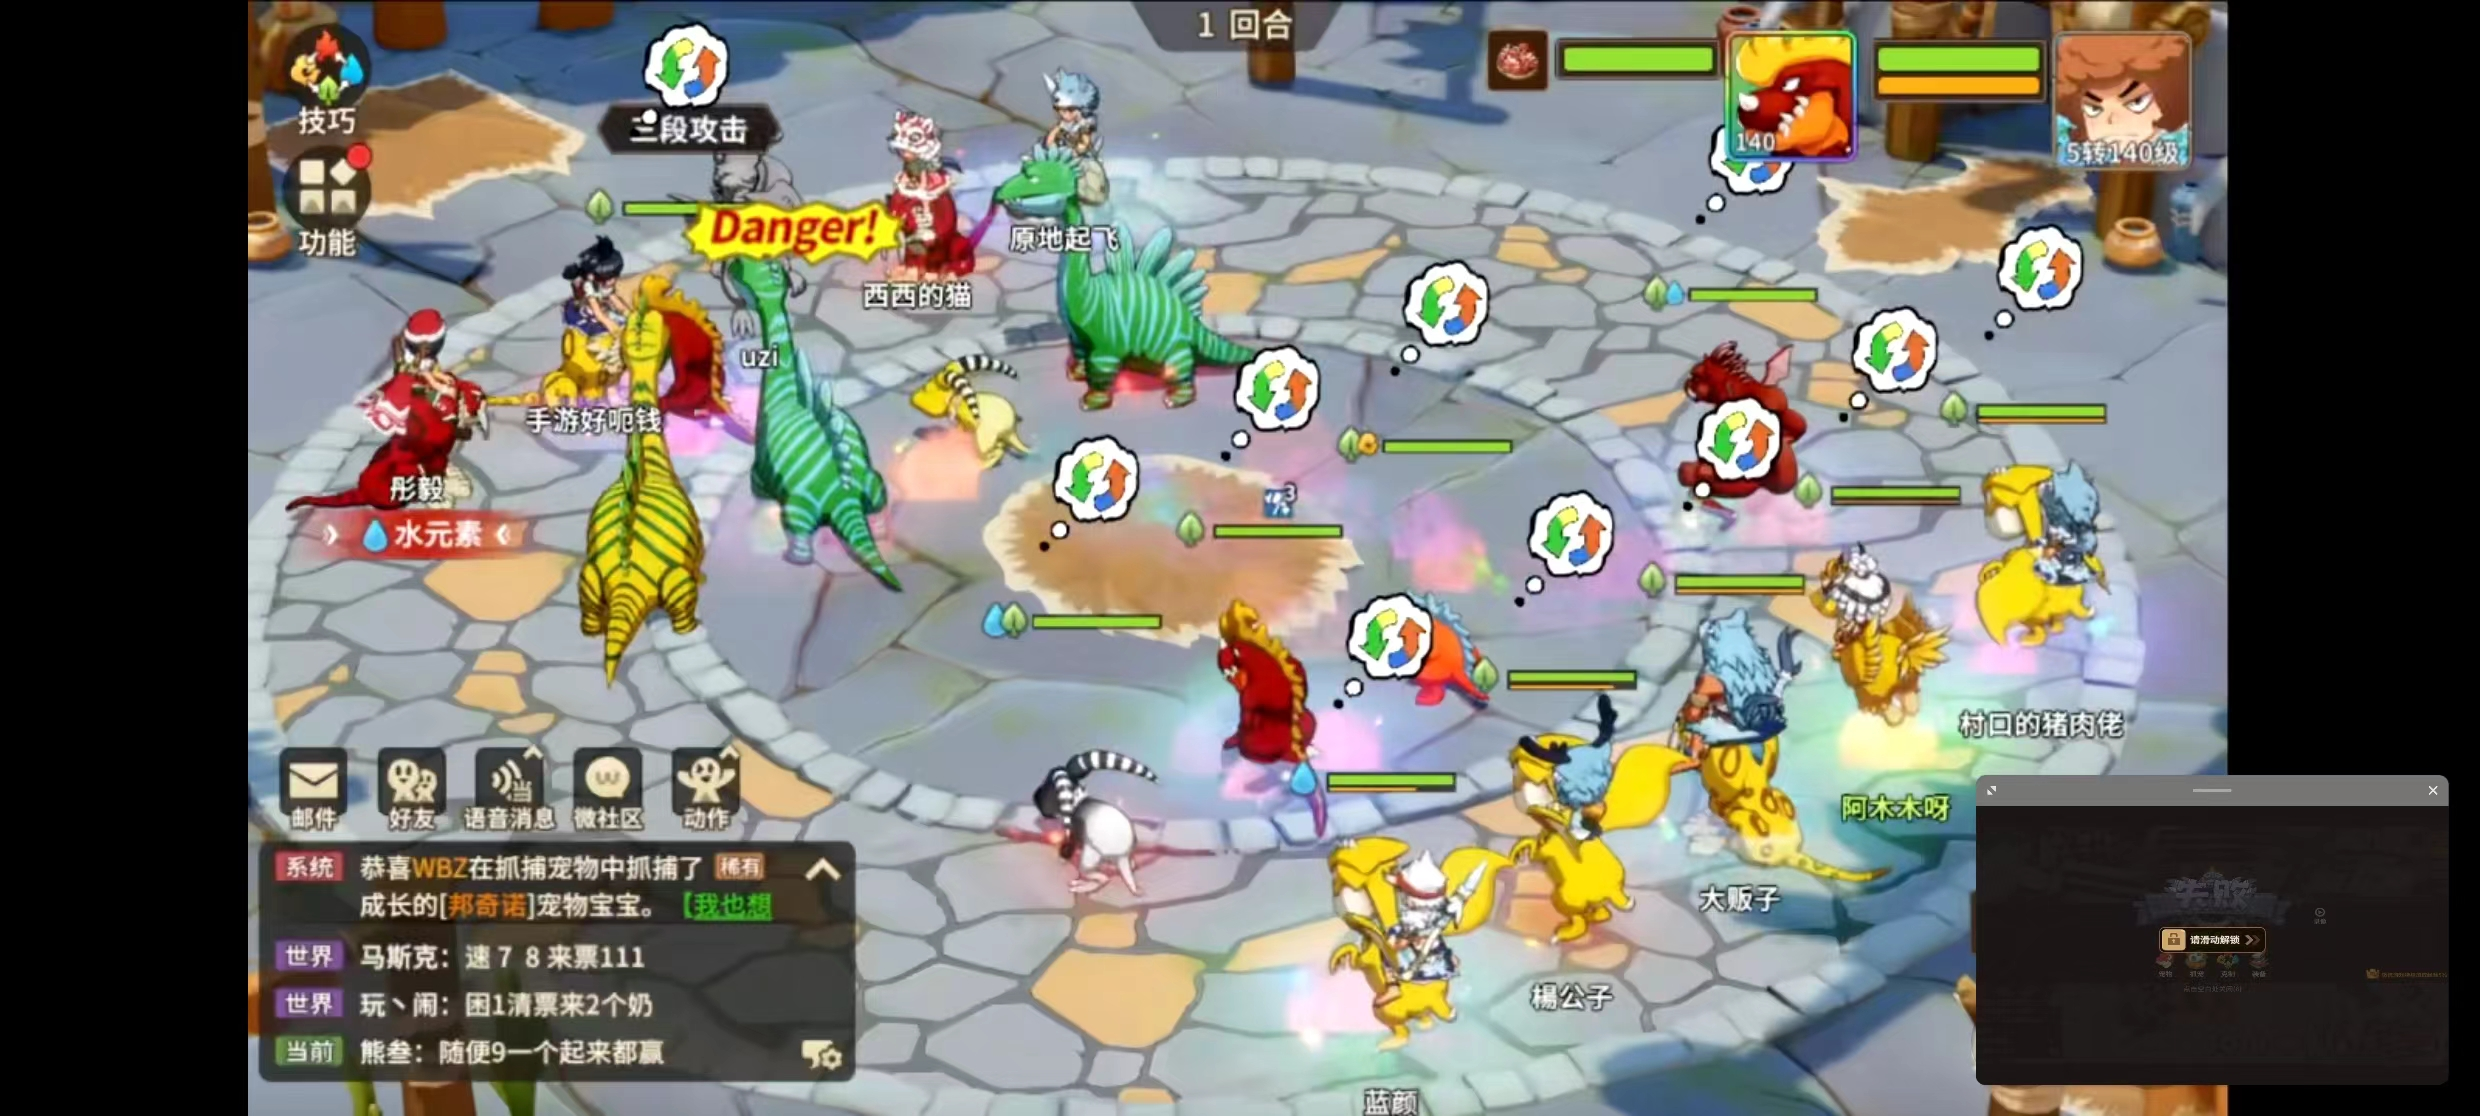葛雷吉鲁: (1670, 322, 1817, 544)
